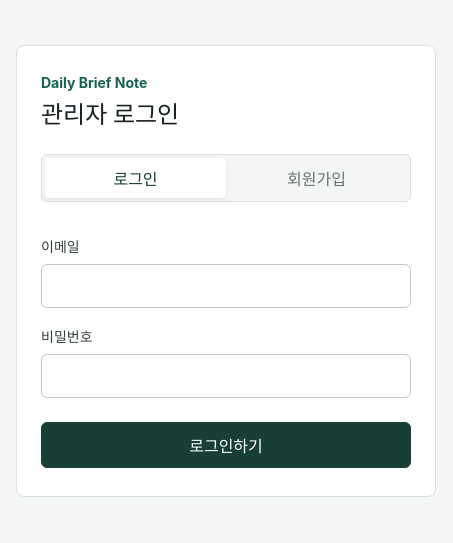
Test case: authentication foundation › shows a friendly error when email sign-in fails
Expected: the heading "관리자 로그인" is shown, x1=41 y1=100 x2=179 y2=129
In the field labelled "이메일": x=226, y=286 x1=41 y1=264 x2=411 y2=308, type "owner@example.test"
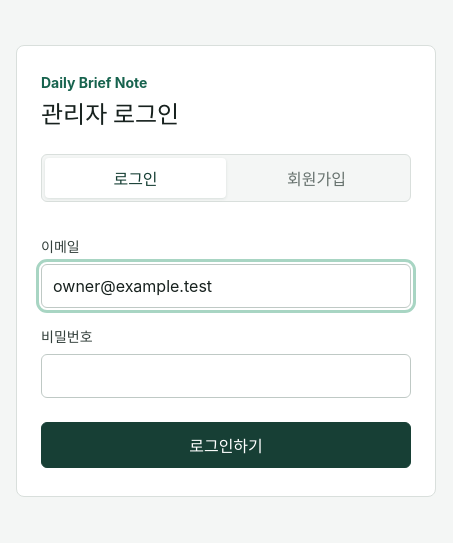
In the password field labelled "비밀번호": x=226, y=376 x1=41 y1=354 x2=411 y2=398, type "password123"
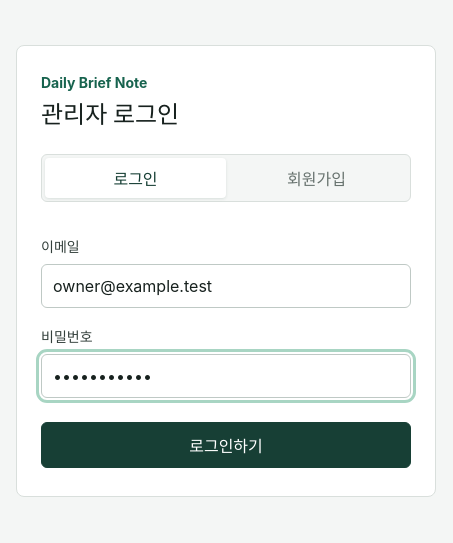
Click the button "로그인하기": x=226, y=445 x1=41 y1=422 x2=411 y2=468
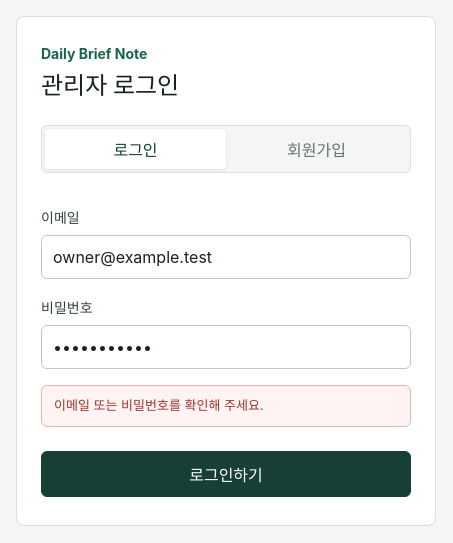
Result: the message reads "이메일 또는 비밀번호를 확인해 주세요." at x1=54 y1=397 x2=264 y2=413
